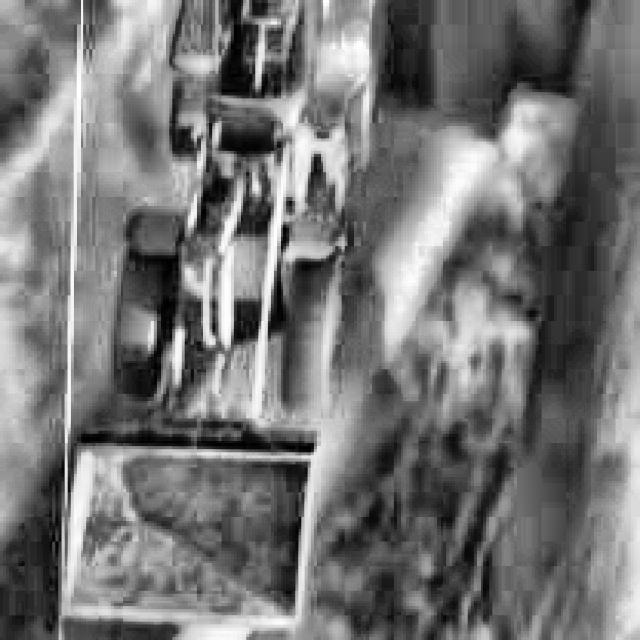buldozerpayloadergrader: (65, 0, 388, 634)
